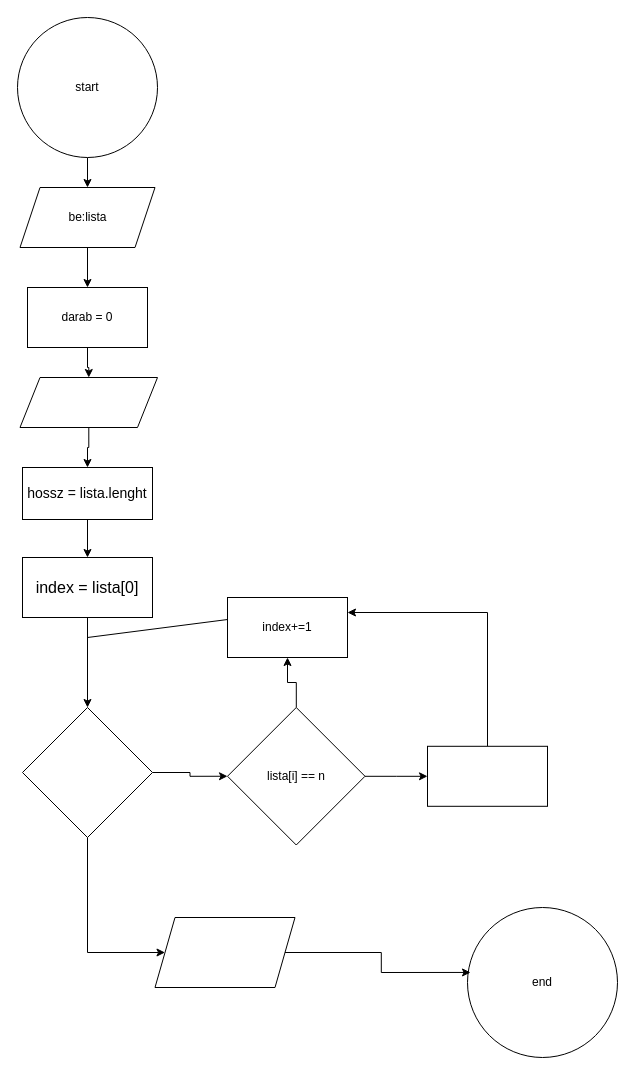
The diagram is 635 pixels wide and 1075 high, and some of its shapes have lost their labels. Each missing label, with the centre of its shape:
"be: n" goes at [88,402].
"darab += 1" goes at [487,775].
"hossz = index" goes at [87,772].
"ki:darab" goes at [224,952].
